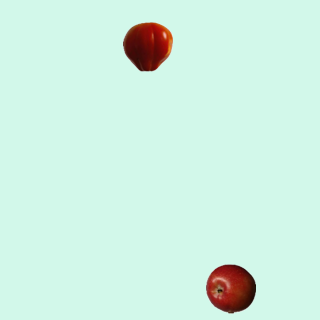Apple Braeburn: (205, 263, 255, 313)
Tomato 1: (122, 21, 172, 71)
